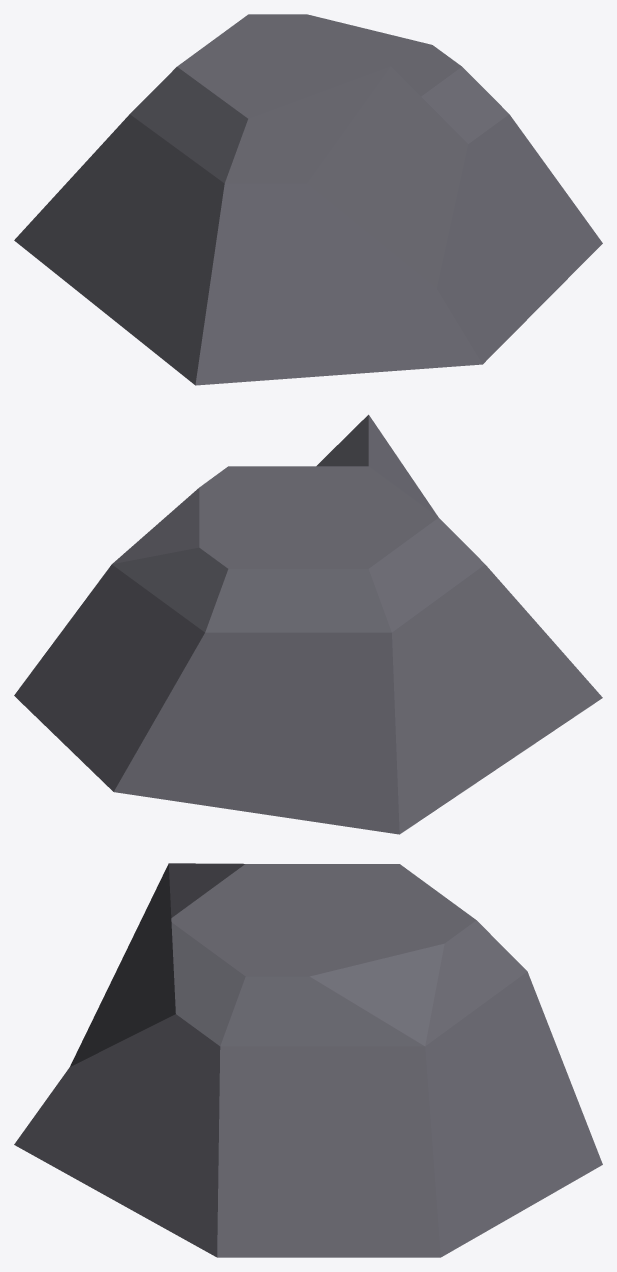
Rendered from rock2.fbx.
3 renders of one model, top to bottom at view 1: azimuth 30°, elevation 25°; view 2: azimuth 150°, elevation 25°; view 3: azimuth 270°, elevation 25°, orthographic. The views are drawn at different scales.
Parts seen in each view (by area): view 1: rock_2; view 2: rock_2; view 3: rock_2.
Part boxes in pixels (x1,y1,x2,y2): rock_2: (14, 14, 602, 385); rock_2: (14, 414, 602, 834); rock_2: (14, 863, 602, 1257).
Bounding box in the file's own units: 196 × 104 × 205.
